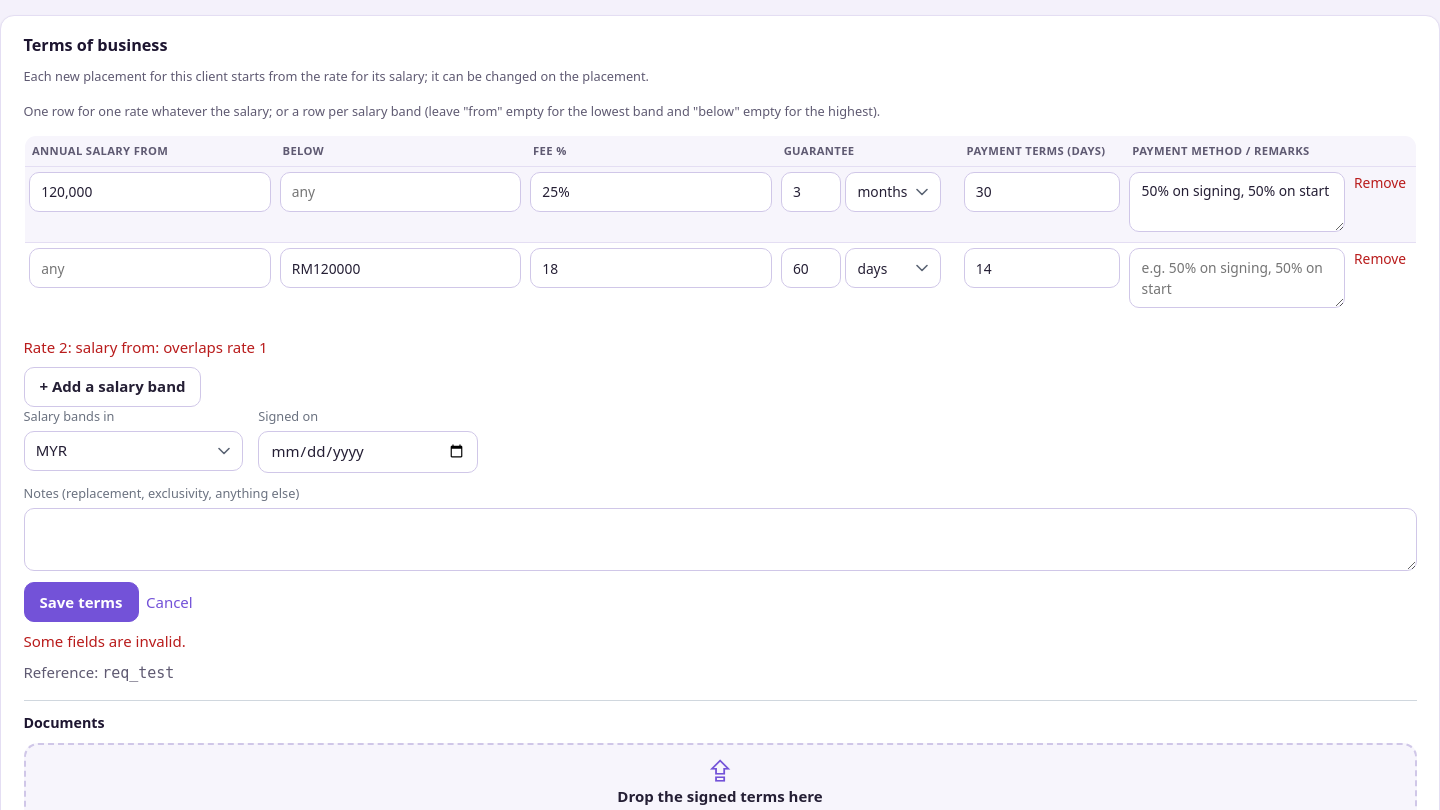
it: a client's terms of business › are tiers by annual salary, each with a fee, guarantee, payment terms and payment remarks
The width and height of the screenshot is (1440, 810).
Earlier steps of the test are not shown.
Expected: the text "Rate 2: salary from: overlaps rate 1" is shown, [24,337,268,357]
Click the button "Save terms": [81, 602] box [24,582,138,622]
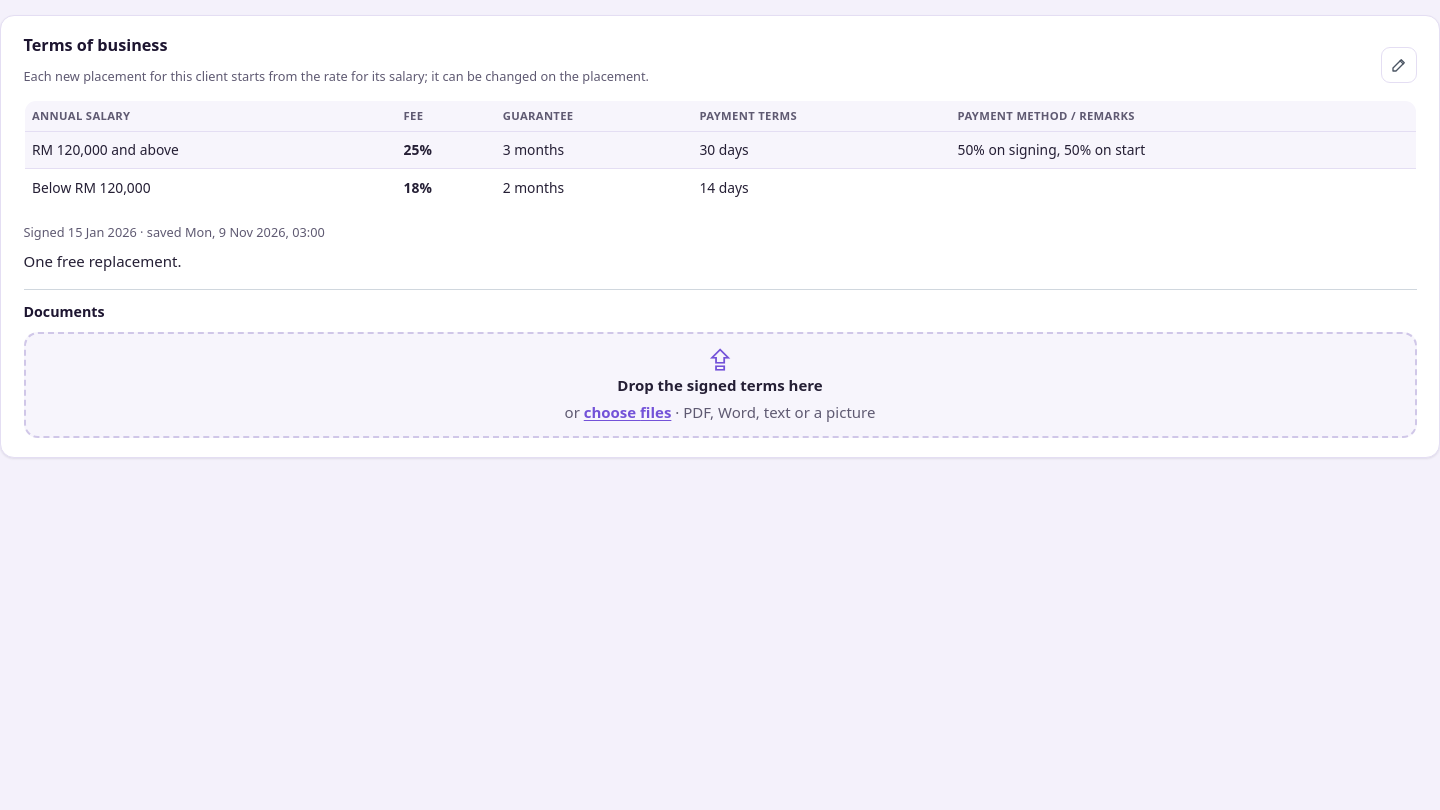
Result: the text "RM 120,000 and above" is shown at [24,131,396,169]
Result: the text "Below RM 120,000" is shown at [24,169,396,206]
Result: the text "3 months" is shown at [495,131,692,169]
